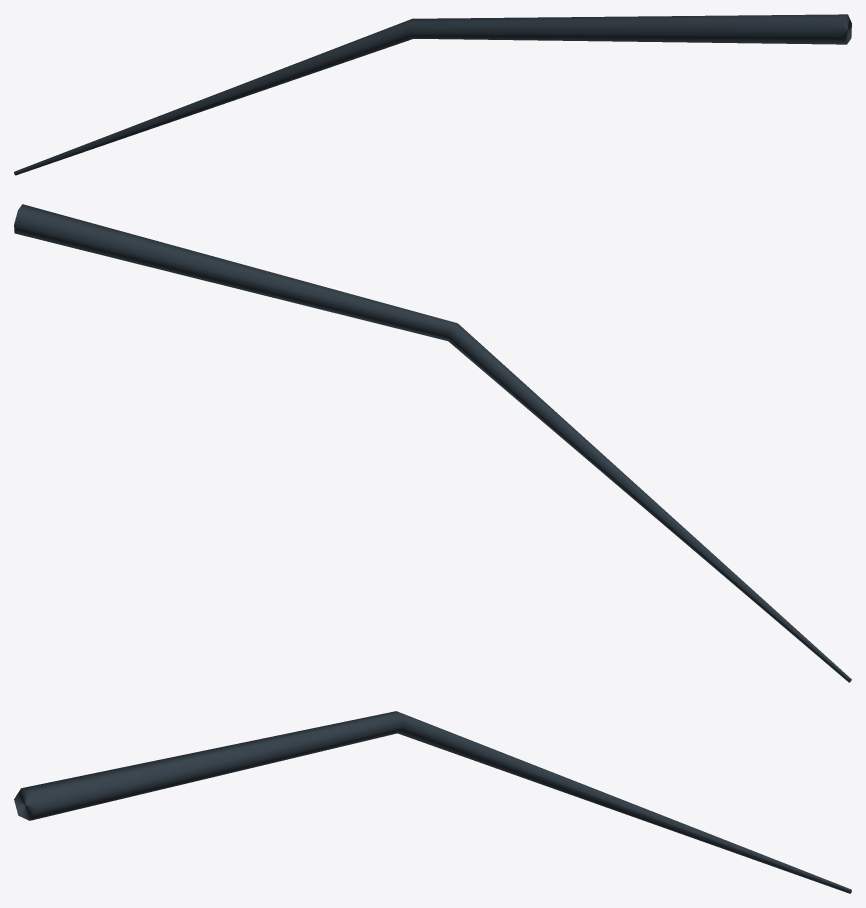
File: L_Wing_Finger_2.obj
3 views of the same model, one above another, from view 1: azimuth 30°, elevation 25°; view 2: azimuth 210°, elevation 25°; view 3: azimuth 270°, elevation 25° (orthographic). The views are drawn at different scales.
Visible parts, largest first — view 1: L_Wing_Finger_2; view 2: L_Wing_Finger_2; view 3: L_Wing_Finger_2.
Boxes of the visible parts, x1,y1,x2,y2 form: L_Wing_Finger_2: (14, 14, 851, 175); L_Wing_Finger_2: (14, 204, 851, 682); L_Wing_Finger_2: (14, 711, 851, 893).
Bounding box in the file's own units: 3.94 × 2.53 × 5.45.
